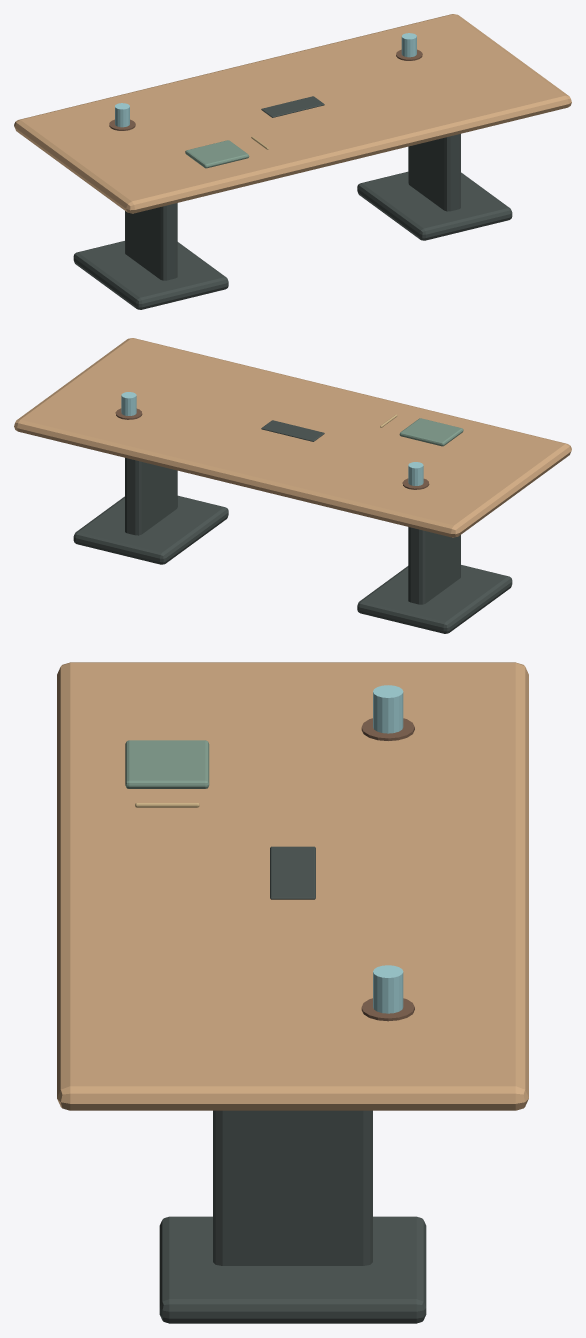
File: meeting-table.glb
3 renders of one model, top to bottom at view 1: azimuth 30°, elevation 25°; view 2: azimuth 150°, elevation 25°; view 3: azimuth 270°, elevation 25°, orthographic. The views are drawn at different scales.
Parts seen in each view (by area): view 1: Meeting tabletop, meeting-table Graphite powder coat, Meeting notebook, meeting-table Water bottle; view 2: Meeting tabletop, meeting-table Graphite powder coat, Meeting notebook, meeting-table Water bottle; view 3: Meeting tabletop, meeting-table Graphite powder coat, Meeting notebook, meeting-table Water bottle, meeting-table Walnut accents.
Part boxes in pixels (box(x1,y1,x2,y2)): Meeting tabletop: box(14, 14, 571, 213); meeting-table Graphite powder coat: box(73, 96, 512, 309); Meeting notebook: box(185, 140, 249, 168); meeting-table Water bottle: box(115, 33, 416, 127); Meeting tabletop: box(14, 338, 571, 537); meeting-table Graphite powder coat: box(73, 420, 512, 633); Meeting notebook: box(399, 418, 463, 446); meeting-table Water bottle: box(121, 392, 423, 485); Meeting tabletop: box(57, 662, 528, 1110); meeting-table Graphite powder coat: box(159, 846, 426, 1323); Meeting notebook: box(125, 740, 209, 788); meeting-table Water bottle: box(373, 685, 403, 1013); meeting-table Walnut accents: box(361, 718, 414, 1021).
Size of the model in its own units: 2.7 by 0.905 by 1.24.
